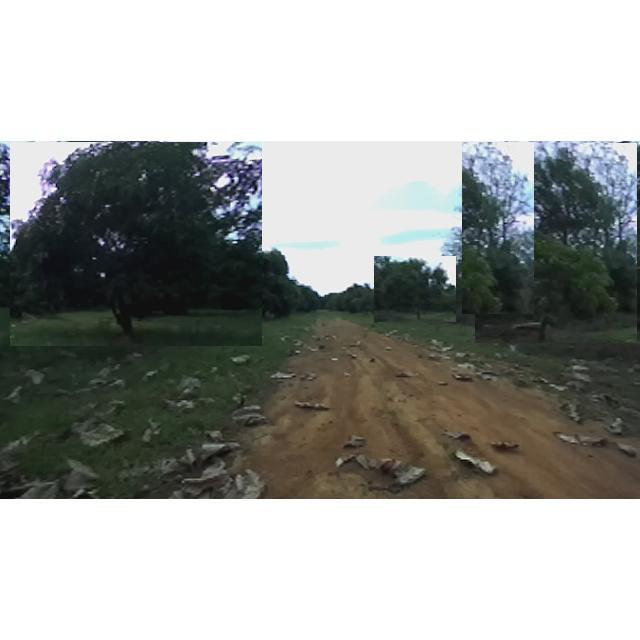direk: (10, 142, 262, 346), (475, 143, 637, 343), (462, 142, 534, 314), (220, 242, 296, 321), (374, 256, 456, 322), (338, 278, 389, 318), (283, 277, 323, 313)
